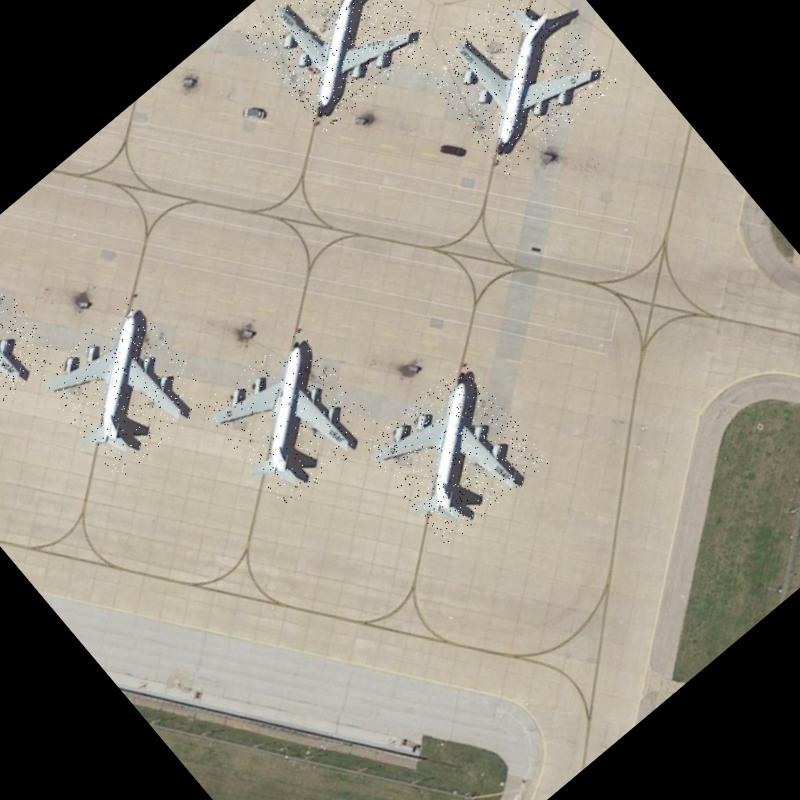A11: (412, 0, 619, 176), (362, 360, 549, 548), (197, 324, 384, 510), (31, 294, 216, 480), (239, 0, 435, 132), (0, 253, 61, 440)
